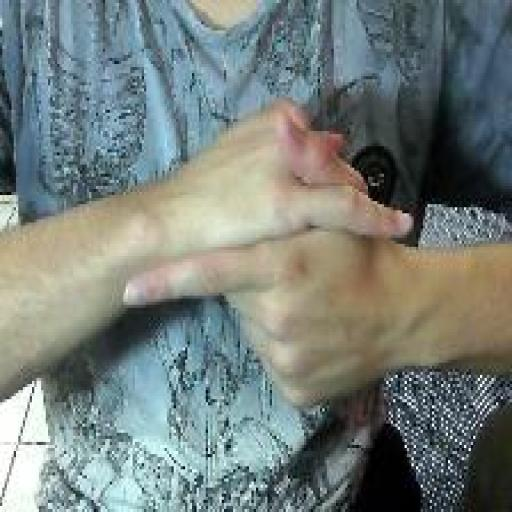U -hare-: (121, 93, 418, 410)
